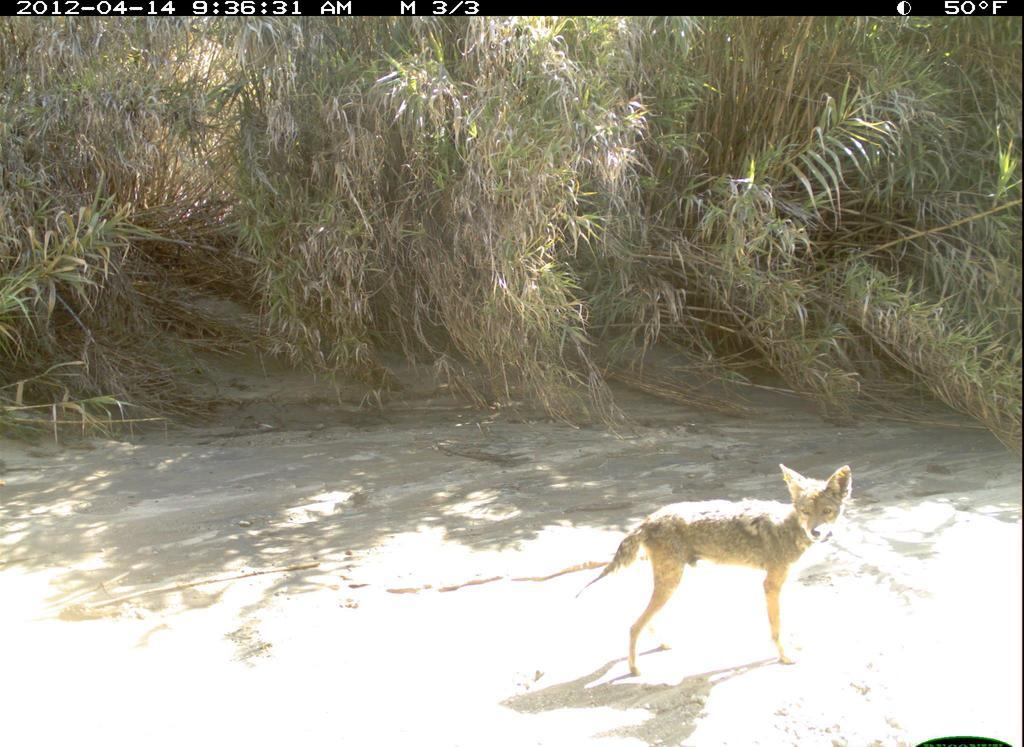coyote: (570, 459, 857, 679)
